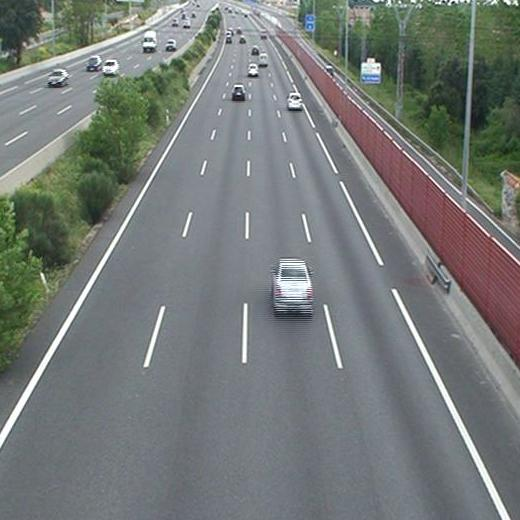car: (272, 259, 313, 312), (287, 92, 302, 108), (232, 85, 245, 99), (247, 63, 258, 77), (238, 35, 247, 45), (250, 46, 258, 54)
van: (258, 53, 267, 64)
